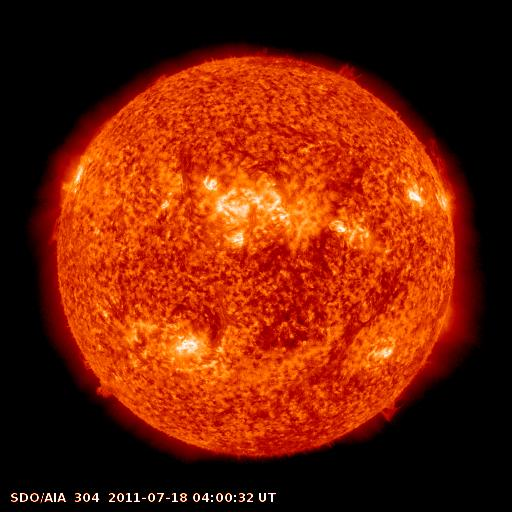prominence: (416, 133, 464, 183), (365, 390, 418, 431), (37, 207, 68, 258), (83, 373, 127, 405), (329, 55, 368, 87)
